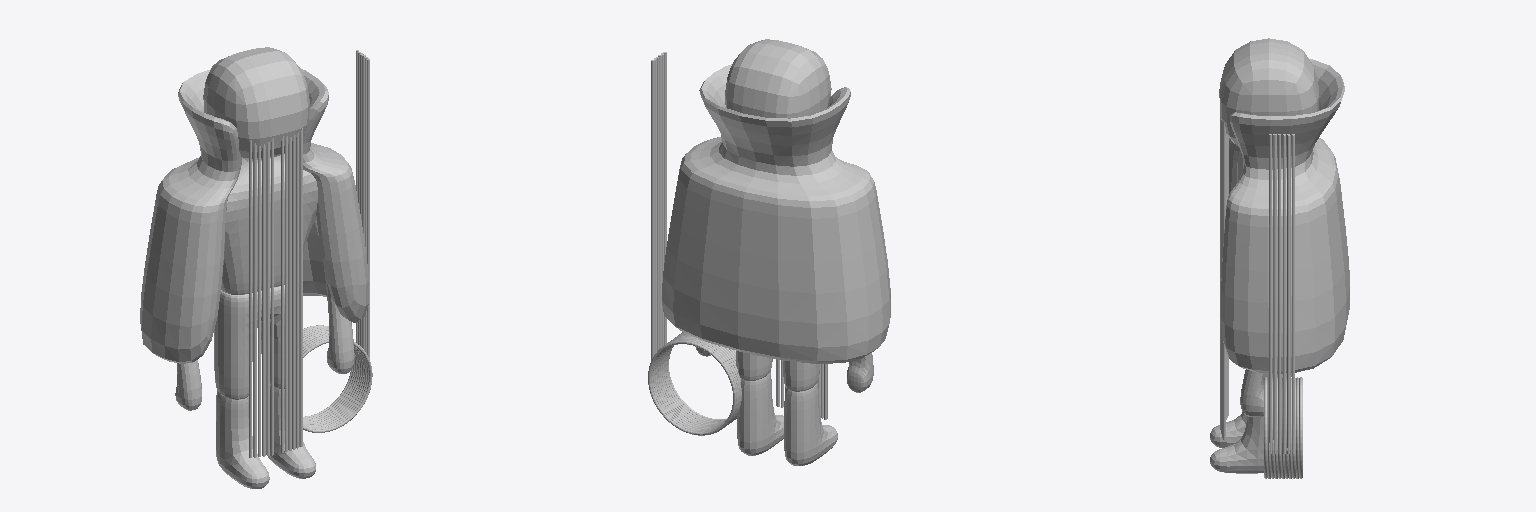
Rendered from EvilFail.obj.
The picture shows the model from 3 angles: view 1: azimuth 30°, elevation 25°; view 2: azimuth 150°, elevation 25°; view 3: azimuth 270°, elevation 25°; orthographic projection.
Visible parts, largest first — view 1: Cube; view 2: Cube; view 3: Cube.
Boxes of the visible parts, box(x1,y1,x2,y2) form: Cube: box(140, 47, 372, 488); Cube: box(648, 39, 890, 465); Cube: box(1210, 38, 1349, 478).
Bounding box in the file's own units: 1.44 × 2.59 × 0.8009.